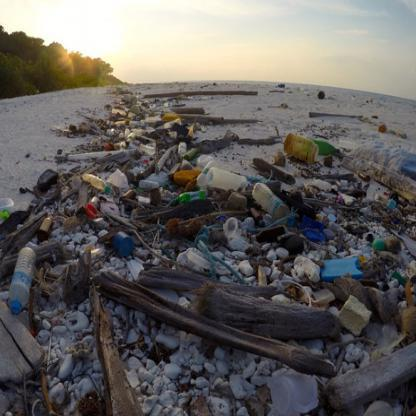plastic bottle: (9, 247, 37, 314), (252, 183, 287, 218), (205, 168, 248, 190), (137, 177, 162, 190)
